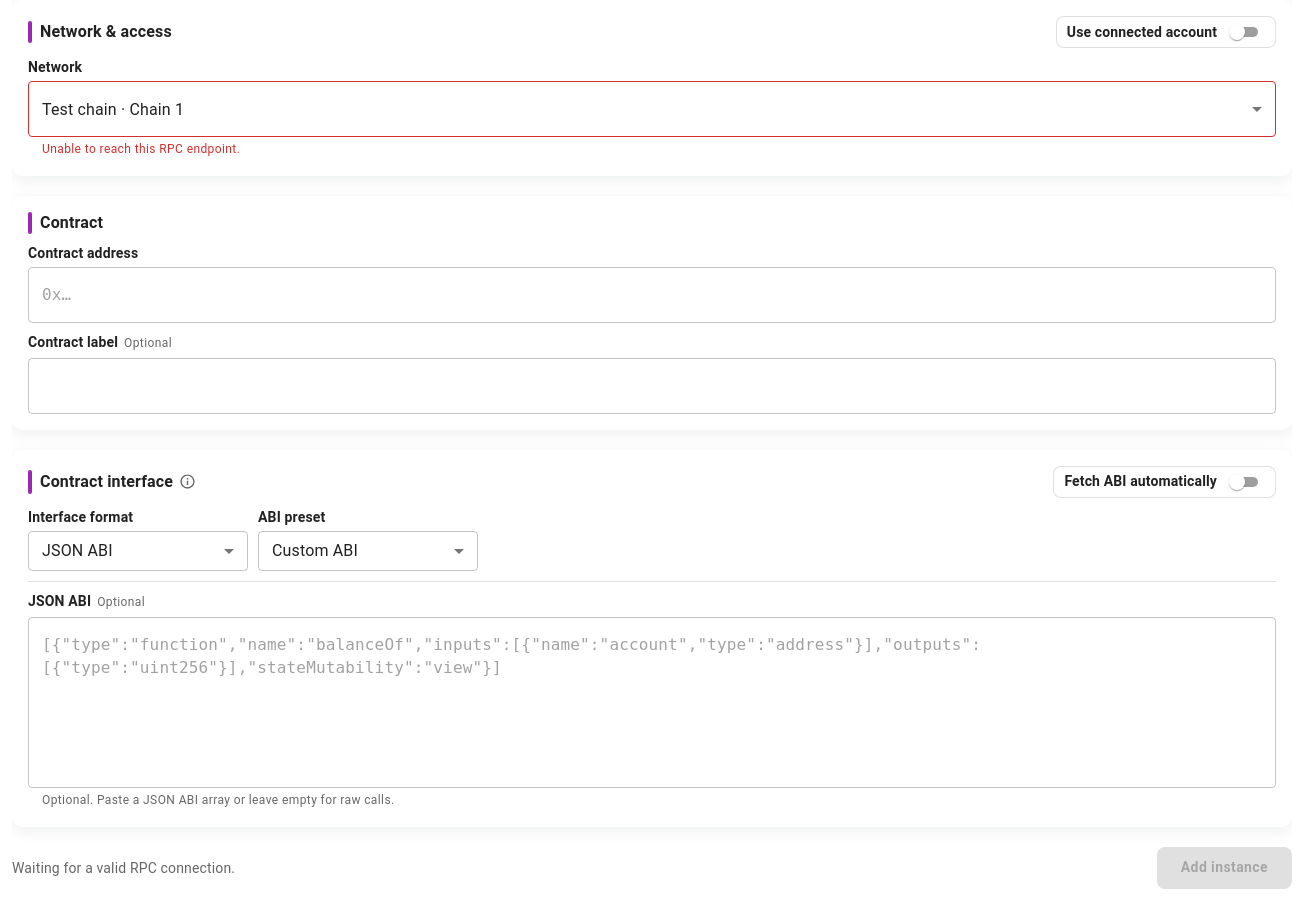
ContractManager › fetches a verified ABI in automatic mode and promotes it when disabled
Click the checkbox labelled "Use connected account" at (1166, 32), box [1056,16,1276,48]
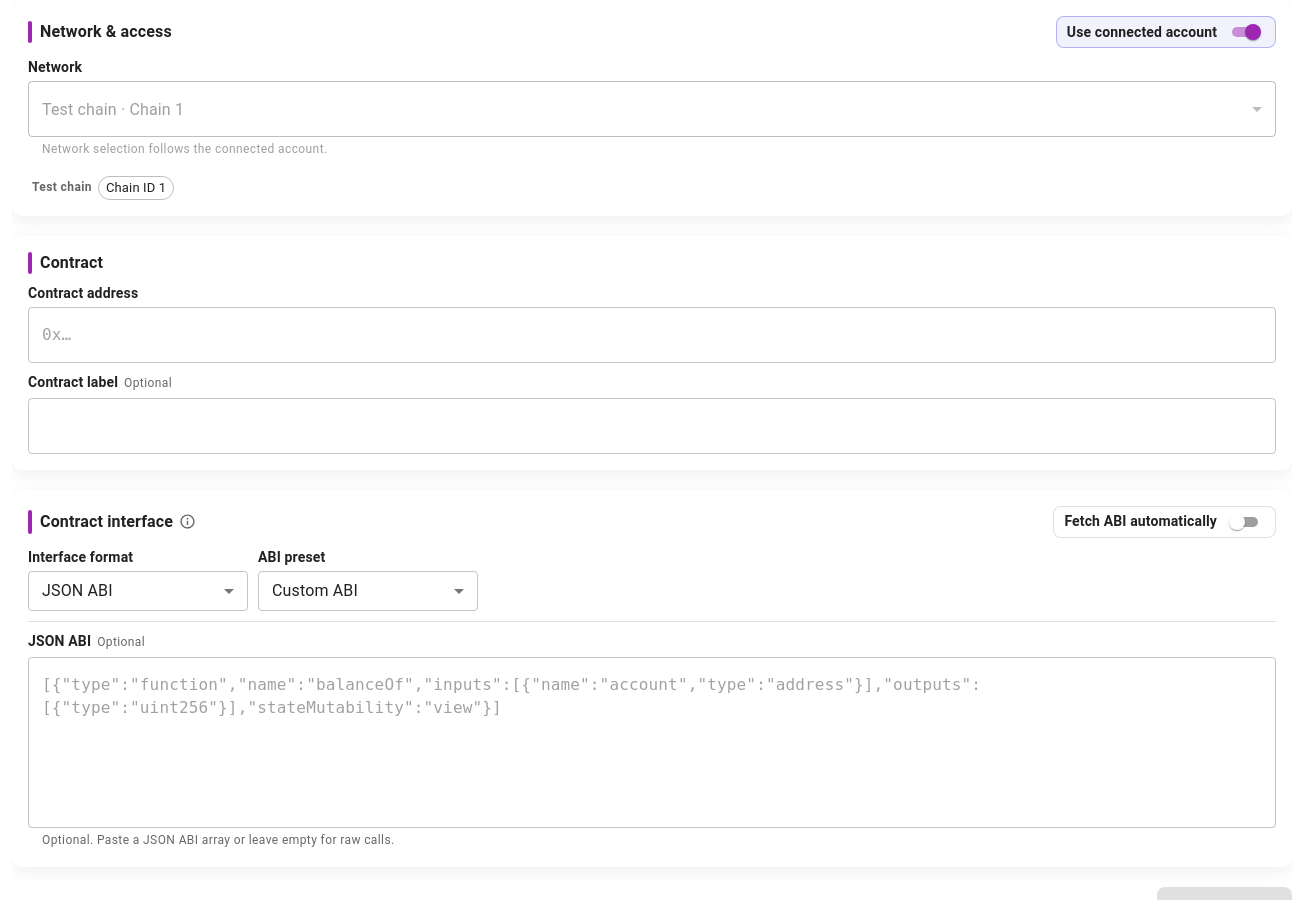
Type "0x0000000000000000000000000000000000000001" into the field labelled "Contract address" at (652, 335), box [28,307,1276,363]
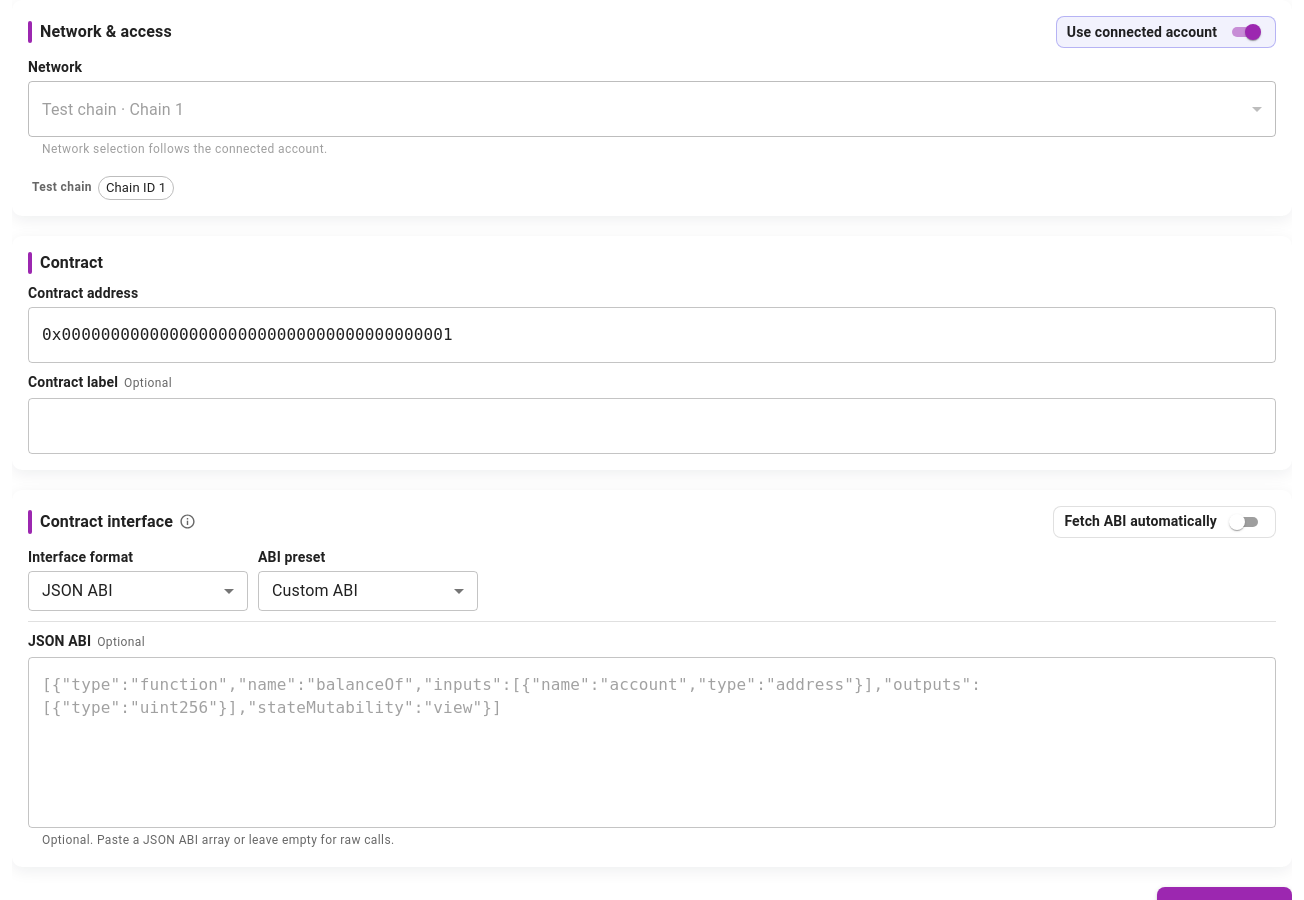
Click the checkbox labelled "Fetch ABI automatically" at (1165, 522), box [1053,506,1276,538]
Wait 500 ms
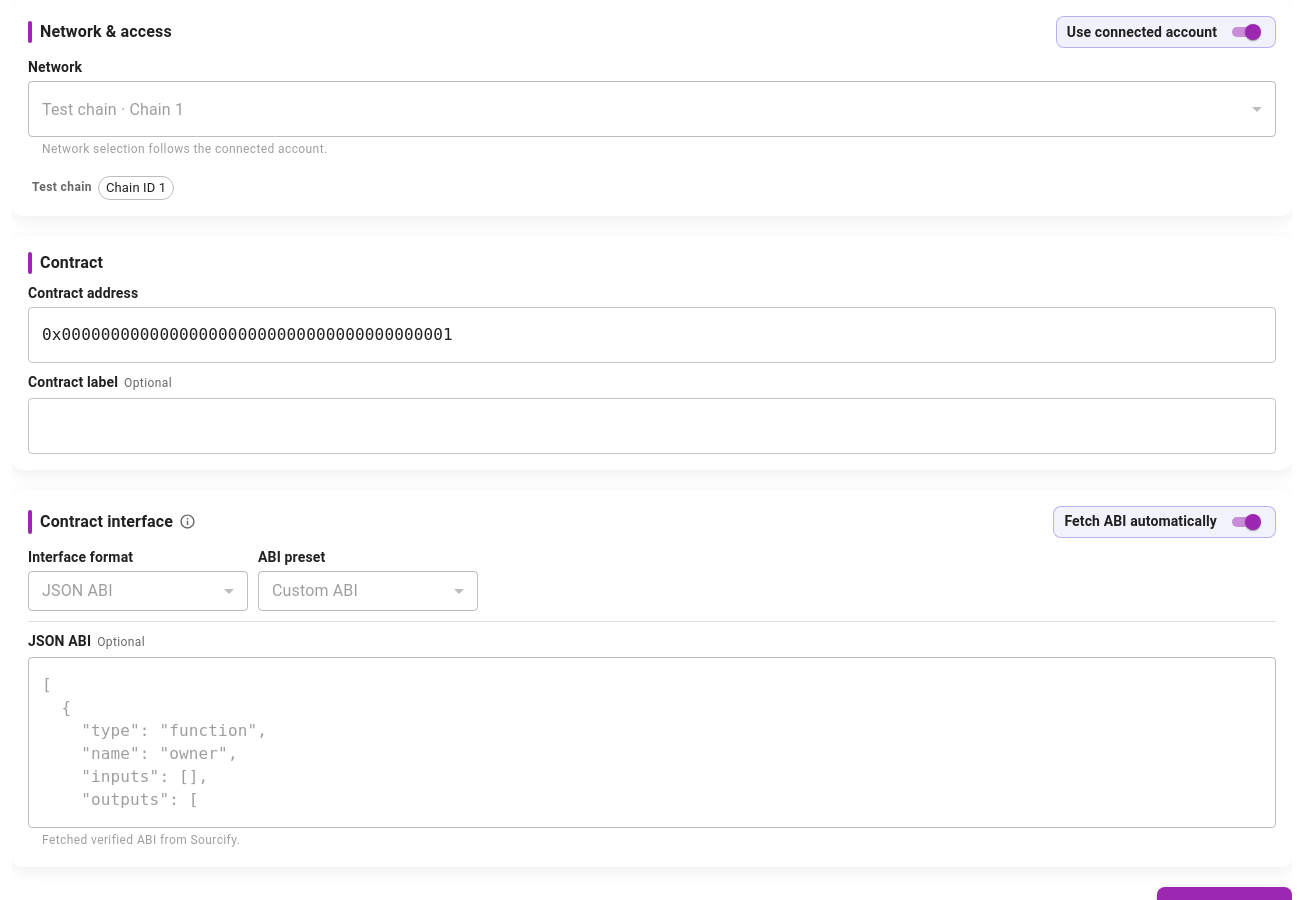
Check: the text box labelled "JSON ABI" is disabled, box [42,673,1262,811]
Check: the text "Fetched verified ABI from Sourcify." is shown, box [42,833,240,847]
Click the checkbox labelled "Fetch ABI automatically" at (1165, 522), box [1053,506,1276,538]
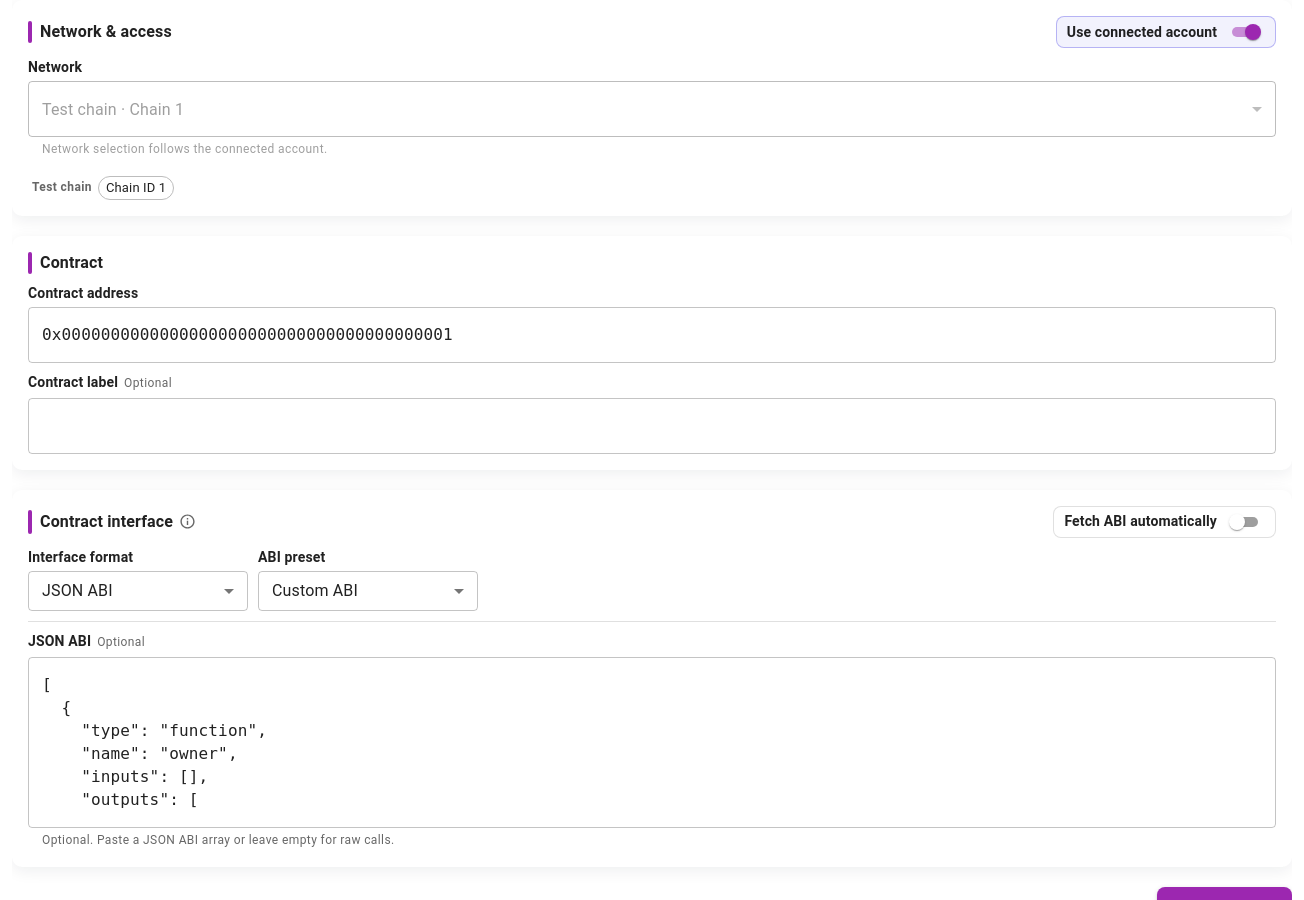
Check: the text box labelled "JSON ABI" is enabled, box [42,673,1262,811]
